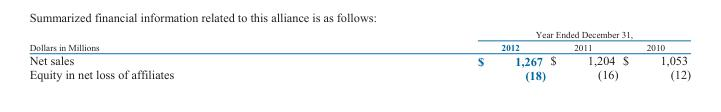table: (28, 28, 690, 81)
table column: (28, 28, 325, 81), (325, 28, 547, 81), (547, 28, 619, 81), (619, 28, 690, 81)
table column header: (28, 28, 690, 52)
table row: (28, 52, 690, 67), (28, 67, 690, 81), (28, 28, 690, 40), (28, 40, 690, 52)
table spanning cell: (28, 28, 325, 52), (325, 28, 690, 40)
